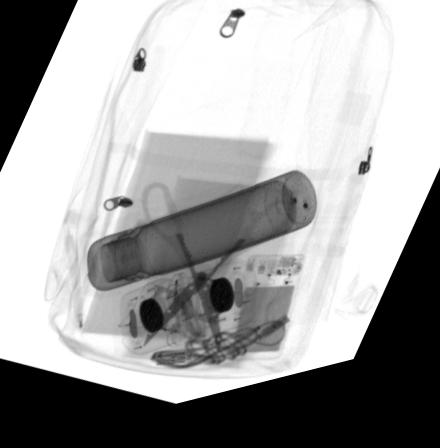Powerbank: (221, 271, 306, 375)
Scissors: (139, 190, 292, 366)
